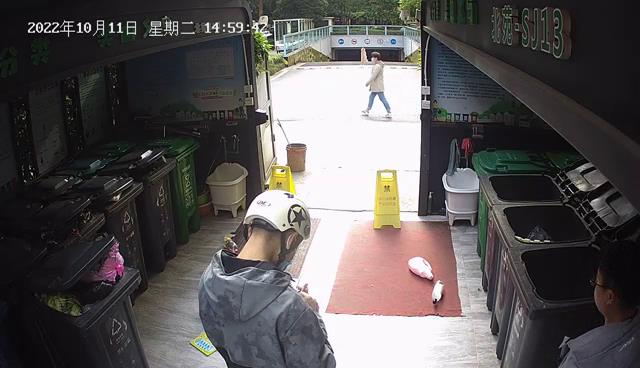person: (197, 188, 337, 368), (557, 251, 639, 368), (359, 50, 393, 119)
suliaozhipin: (406, 255, 434, 280), (431, 278, 444, 304)
zhizhipin: (188, 329, 217, 357)
